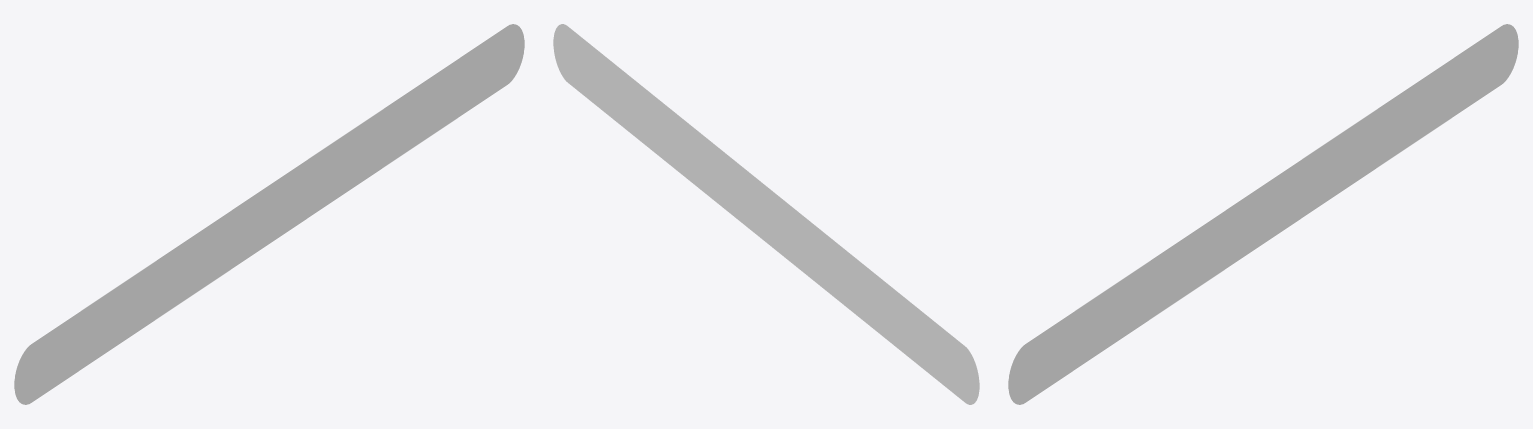
The picture shows the model from 3 angles, left to right: view 1: azimuth 90°, elevation 25°; view 2: azimuth 150°, elevation 25°; view 3: azimuth 270°, elevation 25°; orthographic projection. The views are drawn at different scales.
Visible parts, largest first — view 1: Joint_0_Object_0; view 2: Joint_0_Object_0; view 3: Joint_0_Object_0.
Boxes of the visible parts, x1=… form: Joint_0_Object_0: x1=14, y1=24, x2=524, y2=404; Joint_0_Object_0: x1=553, y1=24, x2=979, y2=404; Joint_0_Object_0: x1=1008, y1=24, x2=1518, y2=404.
Bounding box in the file's own units: 471 × 38.4 × 298.
Materials: 1 (1 with a texture image).
